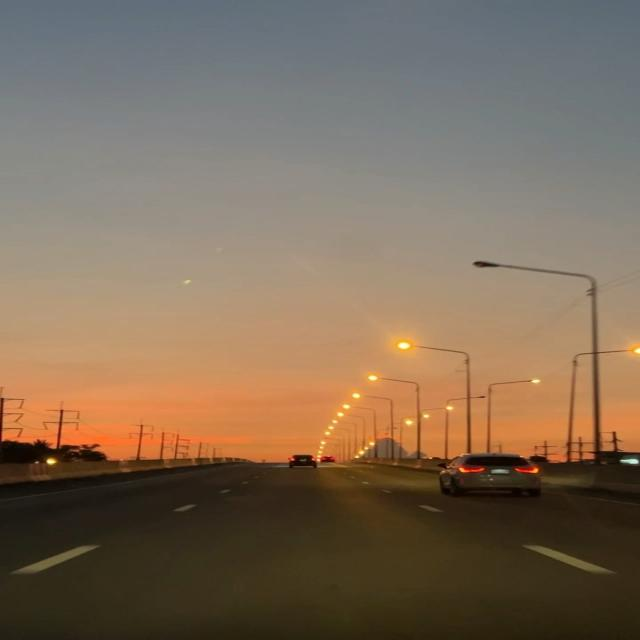Poth-hole: (100, 488, 480, 573)
